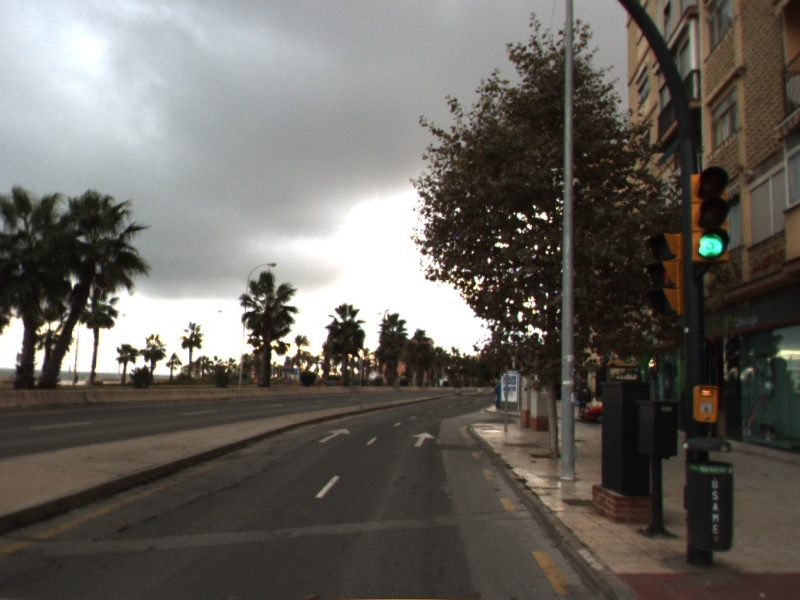STRAIGHT: (317, 426, 352, 444), (410, 430, 436, 448)
